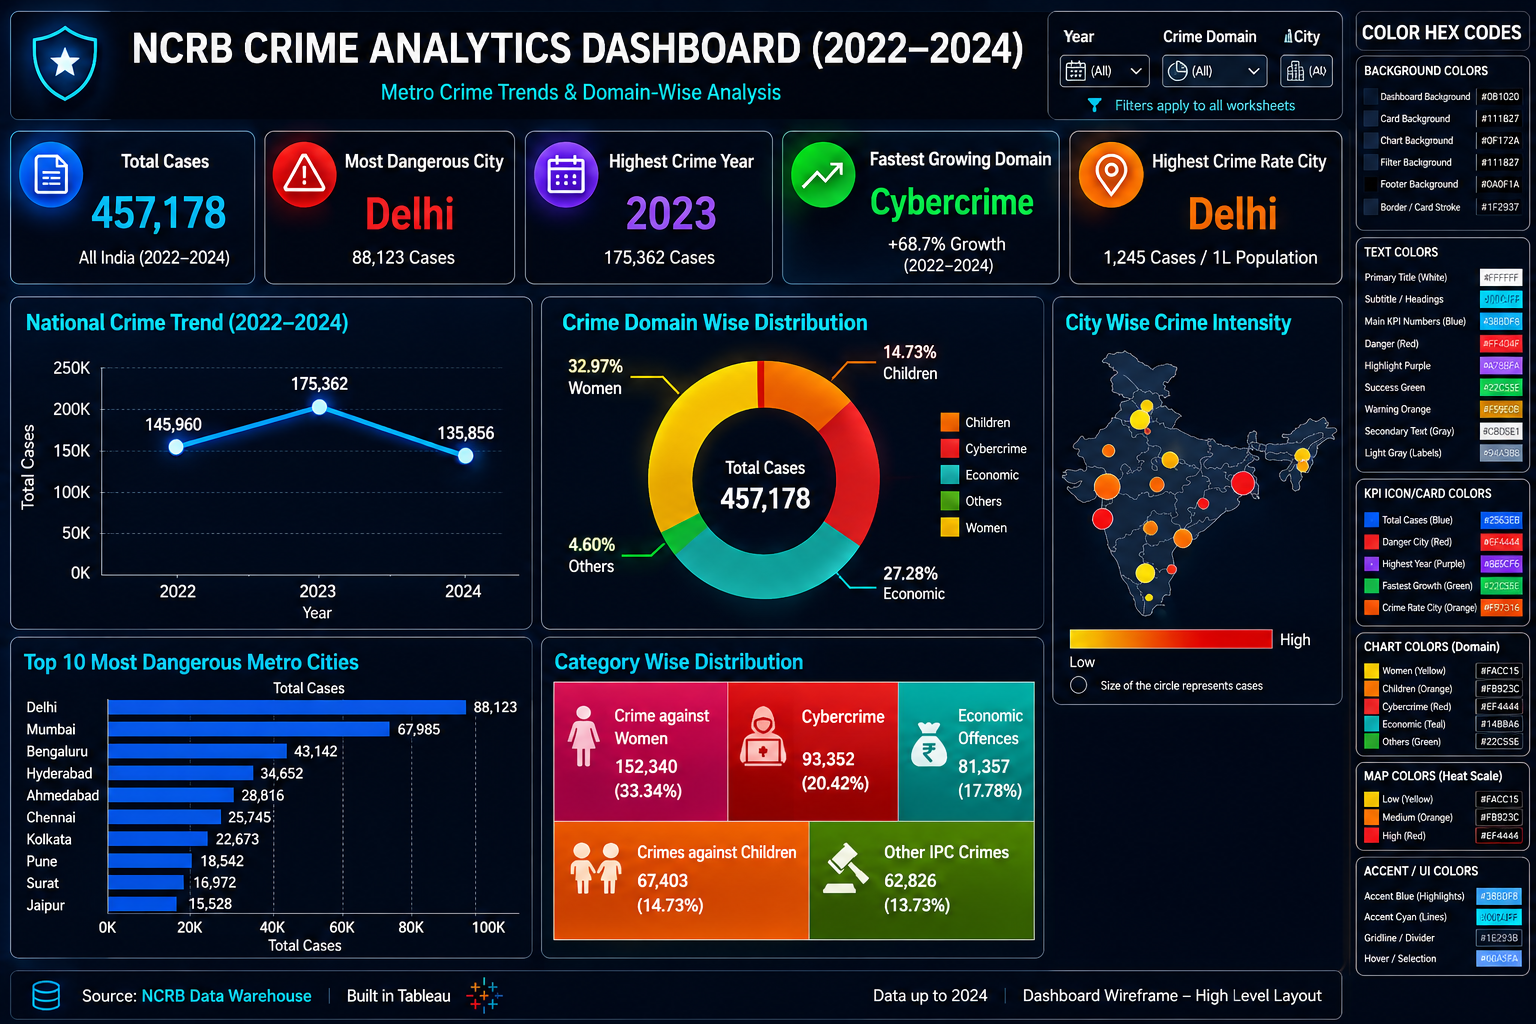

The page's visual inventory and layout, read from the dashboard file:
{"tool":"tableau","page":{"name":"Dashboard 1","canvas":[1000,1000],"units":"permille","ordinal":0},"visuals":[{"type":"image","param":"/Users/sumitbhandari/Desktop/NCRB/assests/National_Crime_Records_Bureau_Logo.png","box":[13,8.8,147,175]},{"type":"text","box":[144.2,18.6,494.4,90.4]},{"type":"filter","title":"Top Dangerous City","param":"[federated.0uvoujp16rpuc21ggkjlk03bnvqw].[Action (City)]","box":[819.8,19.8,157.1,61.9]},{"type":"filter","title":"National Crime Trend (2022–2024)","param":"[federated.0uvoujp16rpuc21ggkjlk03bnvqw].[Action (Year) 1]","box":[656.2,21,157.1,61.9]},{"type":"filter","title":"Crime Domain Wise Distribution","param":"[federated.0uvoujp16rpuc21ggkjlk03bnvqw].[Crime Domain (group)]","box":[656.2,95.3,157.1,61.9]},{"type":"text","box":[195.9,118.8,400.2,30.9]},{"type":"worksheet","title":"Total Cases","mark":"Automatic","box":[12,192.5,180,75]},{"type":"worksheet","title":"Dangerous City","mark":"Automatic","box":[202,192.5,180,75]},{"type":"worksheet","title":"Highest Crime Year","mark":"Automatic","box":[402,192.5,180,75]},{"type":"worksheet","title":"Fast Growing Crime Domain","mark":"Automatic","box":[602,192.5,180,75]},{"type":"worksheet","title":"Highest Crime Rate City","mark":"Automatic","box":[802,193.8,180,75]},{"type":"worksheet","title":"Crime Domain Wise Distribution","mark":"Pie","cols":["Calculation_5346862554685440","Calculation_5346862554685440"],"box":[500,277.5,481,332.5]},{"type":"worksheet","title":"National Crime Trend (2022–2024)","mark":"Line","rows":["cases"],"cols":["year"],"box":[13,278.8,480,332.5]},{"type":"worksheet","title":"Category Wise","mark":"Automatic","rows":["cases"],"cols":["category"],"box":[13,625,478,340]},{"type":"worksheet","title":"Top Dangerous City","mark":"Automatic","rows":["cases"],"cols":["city"],"box":[500,626.2,482,340]}]}

Visuals, with their boxes on the dashboard's canvas, which has no fixed pixel size, in thousandths of its width and height (x1, y1, x2, y2). These are canvas units, not pixel positions in the 1536x1024 screenshot, which may show the page scaled, cropped or inside an application window:
image: BBox(13, 9, 160, 184)
text: BBox(144, 19, 639, 109)
"Top Dangerous City" filter: BBox(820, 20, 977, 82)
"National Crime Trend (2022–2024)" filter: BBox(656, 21, 813, 83)
"Crime Domain Wise Distribution" filter: BBox(656, 95, 813, 157)
text: BBox(196, 119, 596, 150)
"Total Cases" worksheet: BBox(12, 192, 192, 268)
"Dangerous City" worksheet: BBox(202, 192, 382, 268)
"Highest Crime Year" worksheet: BBox(402, 192, 582, 268)
"Fast Growing Crime Domain" worksheet: BBox(602, 192, 782, 268)
"Highest Crime Rate City" worksheet: BBox(802, 194, 982, 269)
"Crime Domain Wise Distribution" worksheet (Pie marks): BBox(500, 278, 981, 610)
"National Crime Trend (2022–2024)" worksheet (Line marks): BBox(13, 279, 493, 611)
"Category Wise" worksheet: BBox(13, 625, 491, 965)
"Top Dangerous City" worksheet: BBox(500, 626, 982, 966)
